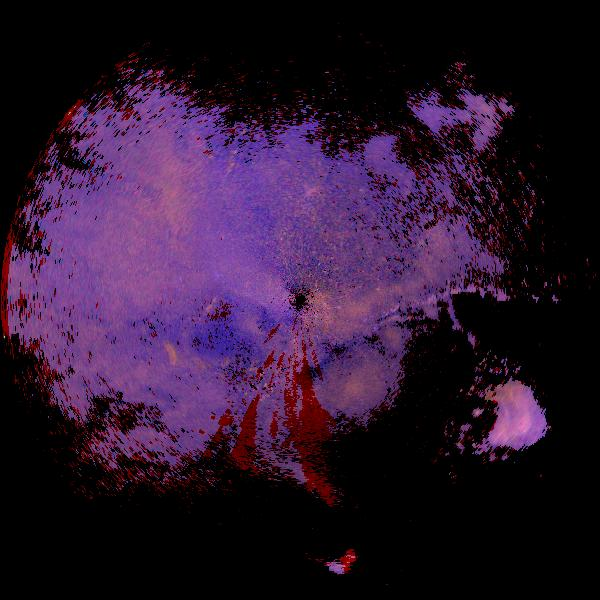roost: (146, 341, 182, 377)
